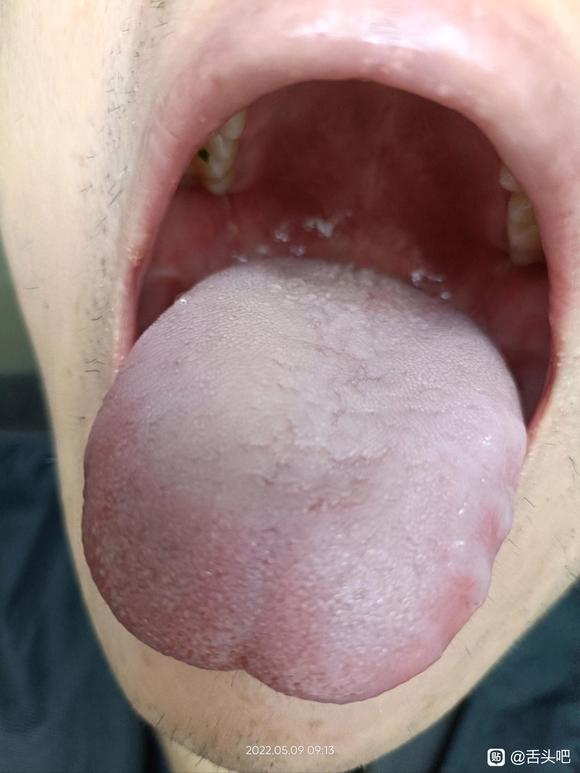baitaishe: (81, 253, 527, 705)
chihenshe: (435, 431, 527, 650)
xinfeiao: (155, 623, 303, 702)
